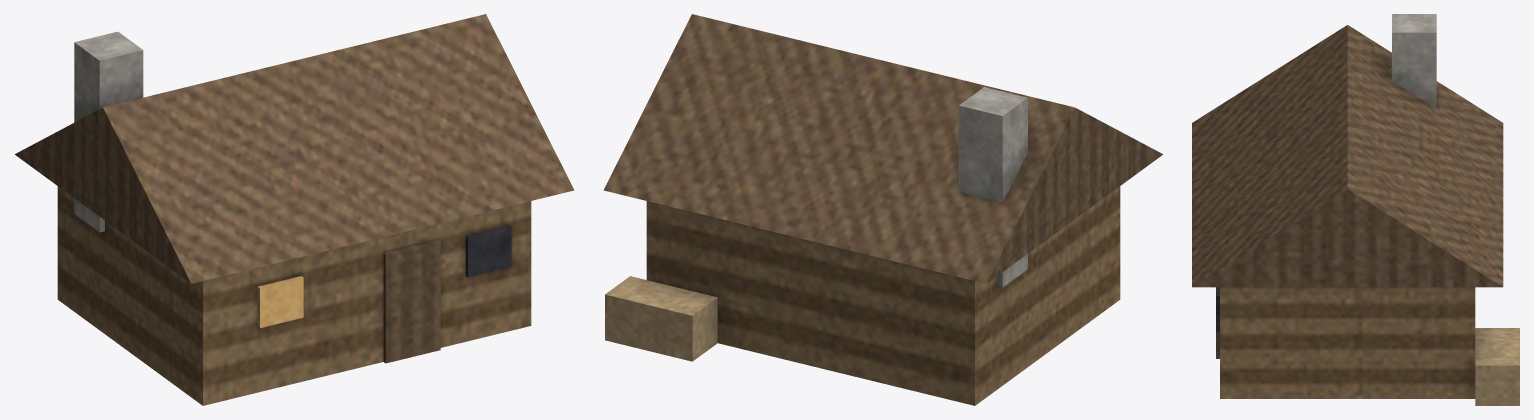
Rendered from SM_LogCabin.fbx.
The picture shows the model from 3 angles, left to right: view 1: azimuth 30°, elevation 25°; view 2: azimuth 150°, elevation 25°; view 3: azimuth 270°, elevation 25°; orthographic projection. The views are drawn at different scales.
Visible parts, largest first — view 1: SM_LogCabin; view 2: SM_LogCabin; view 3: SM_LogCabin.
Boxes of the visible parts, x1,y1,x2,y2 form: SM_LogCabin: (15, 14, 574, 405); SM_LogCabin: (603, 14, 1162, 405); SM_LogCabin: (1192, 14, 1519, 405).
Bounding box in the file's own units: 700 × 480 × 590.
2 materials, 2 textured.
